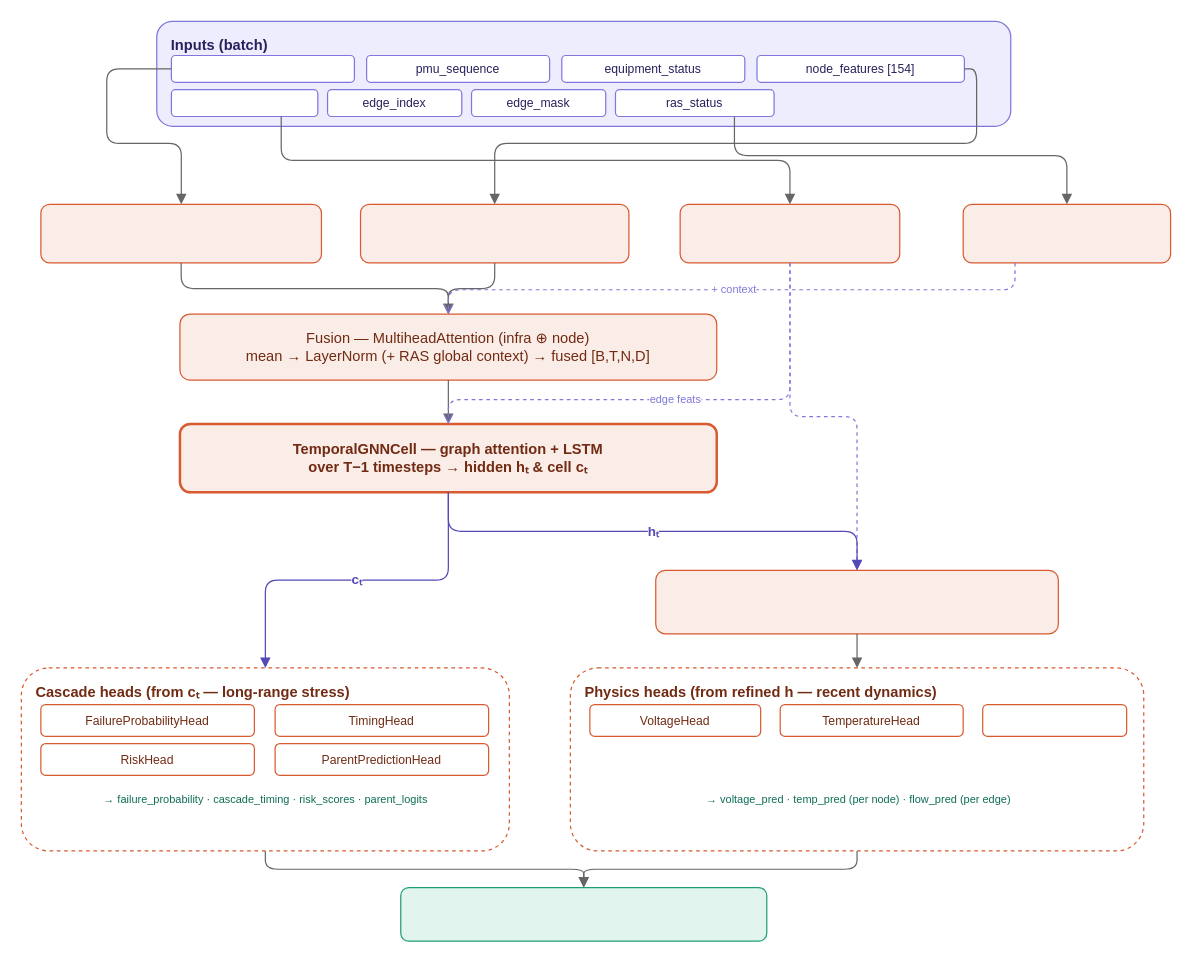
Image size: 1192x963. Some labels were removed from this diagram. Here are the shapes that lost their labels. From the top down, the centre of each, then its label:
point 262,68: scada_data [28]
point 244,102: edge_attr [14]
point 180,233: InfrastructureEmbedding scada + pmu + equipment → D
point 494,233: NodeFeatureMLP node_features → D
point 789,233: Edge embedding Linear(14 → hidden)
point 1066,233: RAS encoder → global context
point 856,601: Graph Attention layers × N residual + LayerNorm → refined h
point 1054,719: FlowHead (per edge)
point 583,913: PhysicsInformedLoss multi-task + physics constraints (training)
